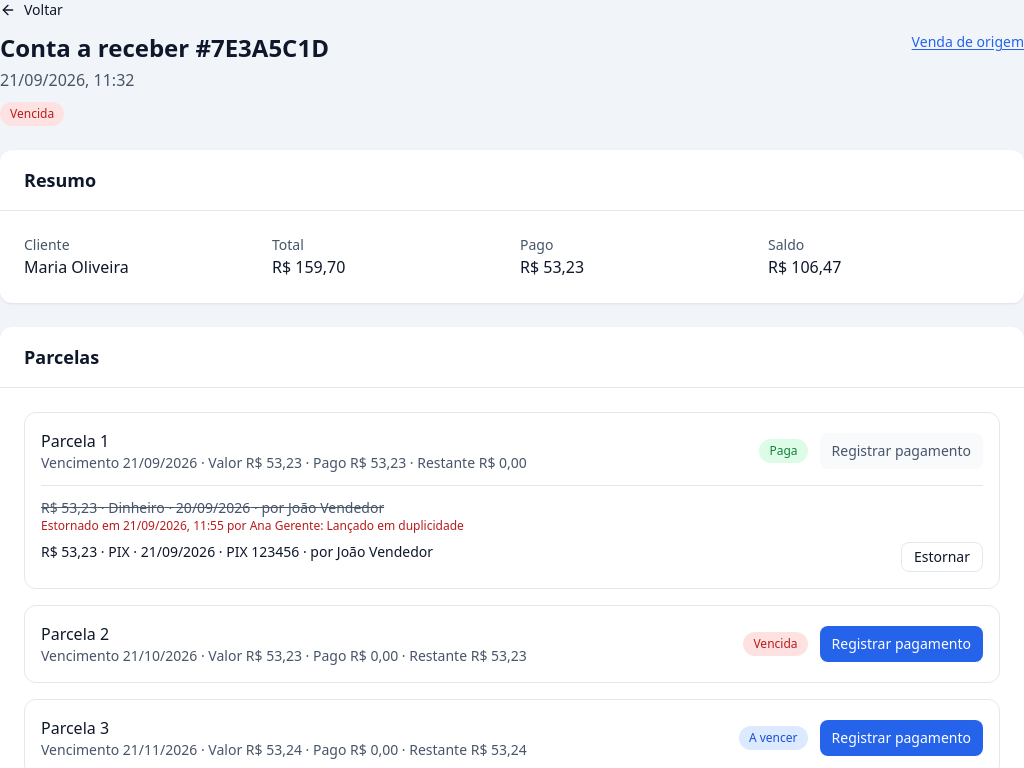
Test: ReceivableDetailPage › valor acima do restante é bloqueado na tela; erro 422 do backend aparece uma vez
Expected: the text "Maria Oliveira" is shown, left=24, top=256, right=129, bottom=278
Click the button "Registrar pagamento" in the row of "21/10/2026": (901, 644) left=820, top=626, right=983, bottom=662
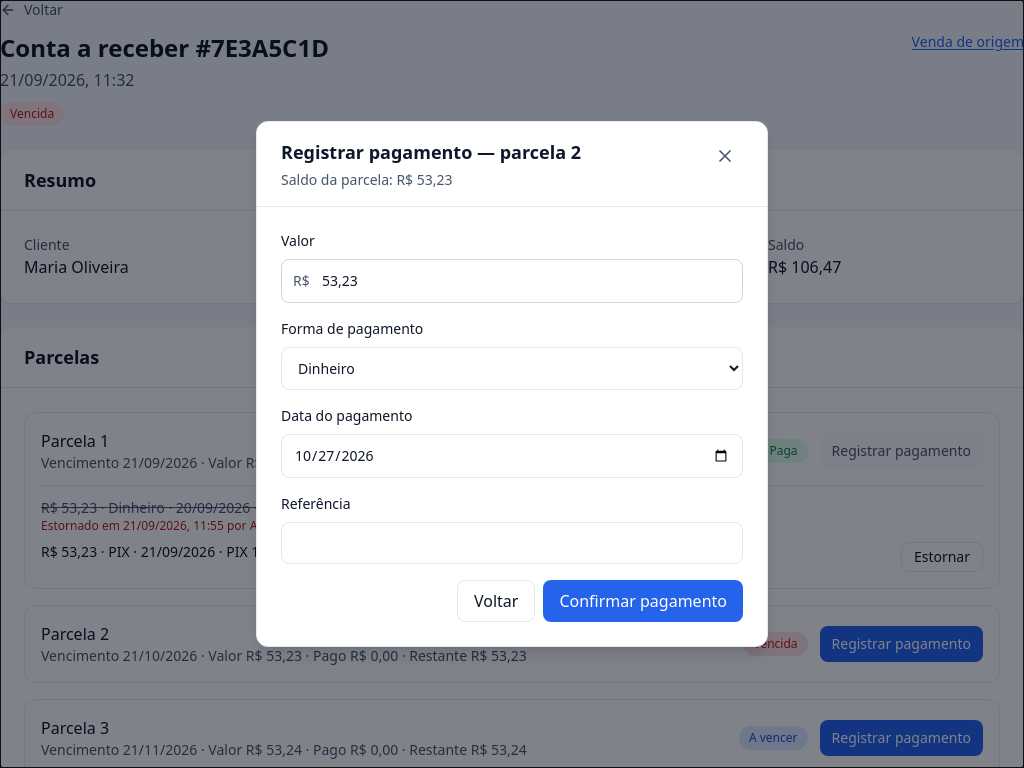
Replace the text in the field labelled "Valor" with "60": (512, 281) left=281, top=259, right=743, bottom=303
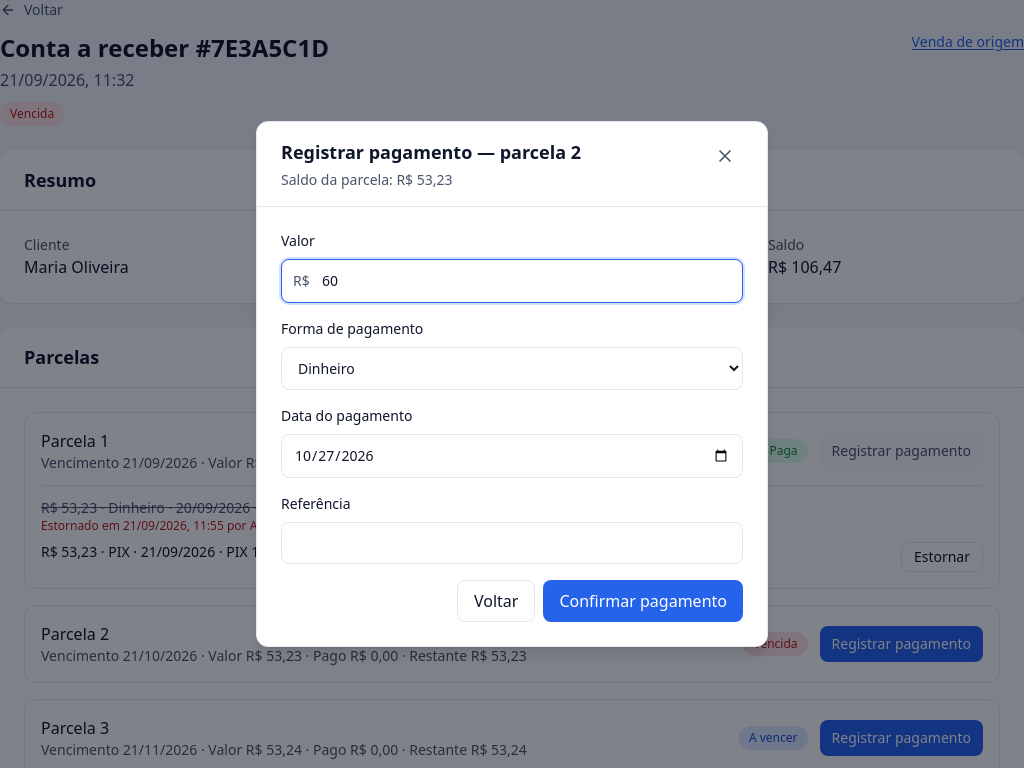
Click the button "Confirmar pagamento": (643, 601) left=543, top=580, right=743, bottom=622
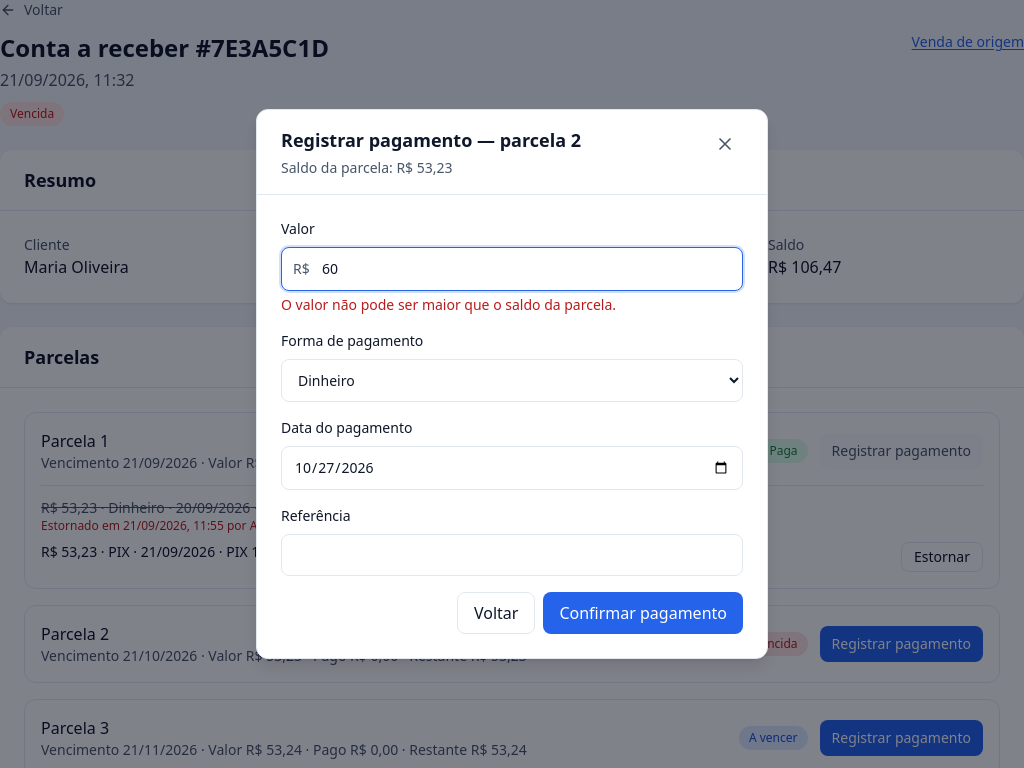
Expected: the text "O valor não pode ser maior que o saldo da parcela." is shown, left=281, top=295, right=616, bottom=314
Replace the text in the field labelled "Valor" with "10.50": (512, 269) left=281, top=247, right=743, bottom=291
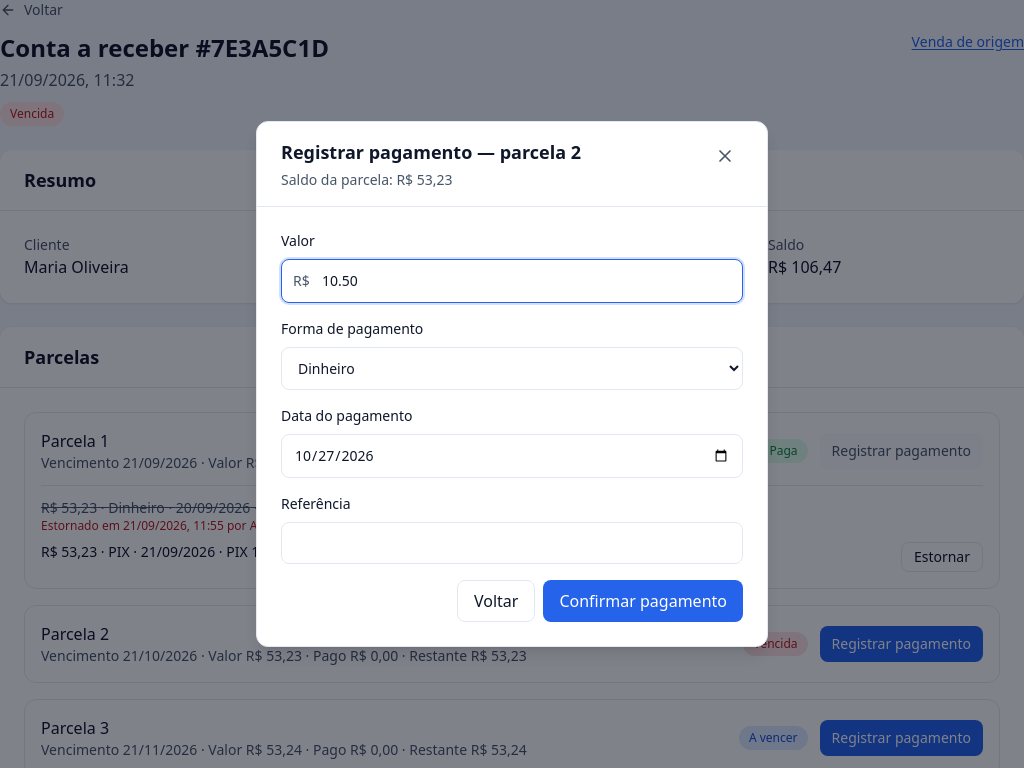
Click the button "Confirmar pagamento": (643, 601) left=543, top=580, right=743, bottom=622
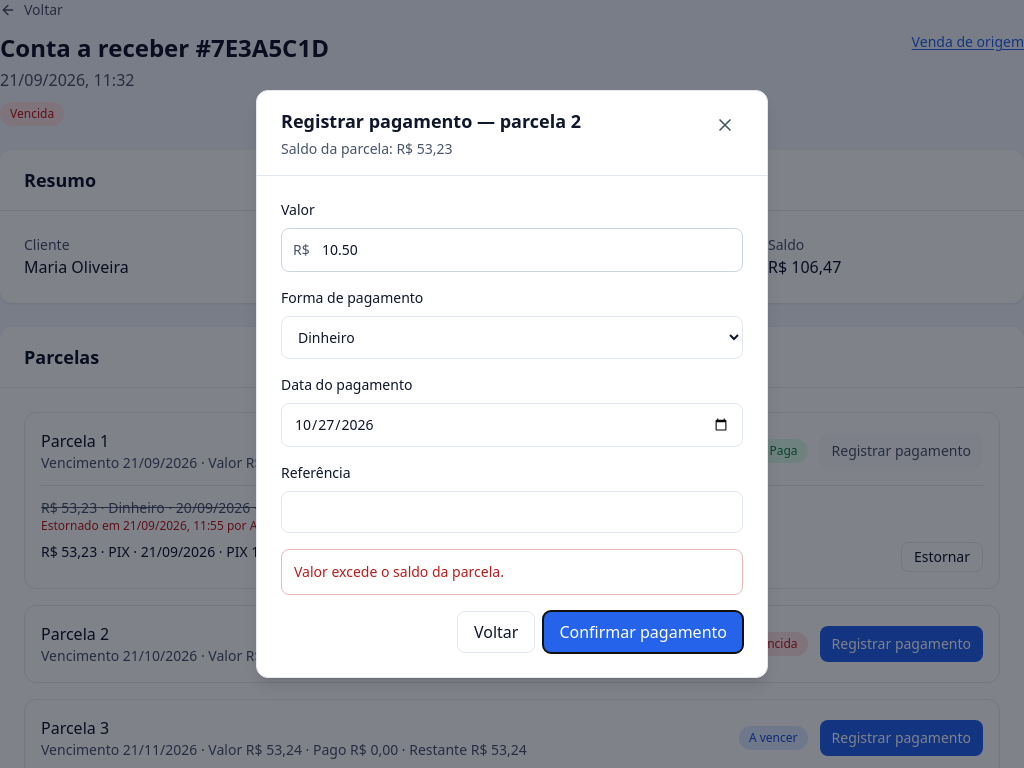
Expected: the text "Valor excede o saldo da parcela." is shown once, left=281, top=549, right=743, bottom=595
